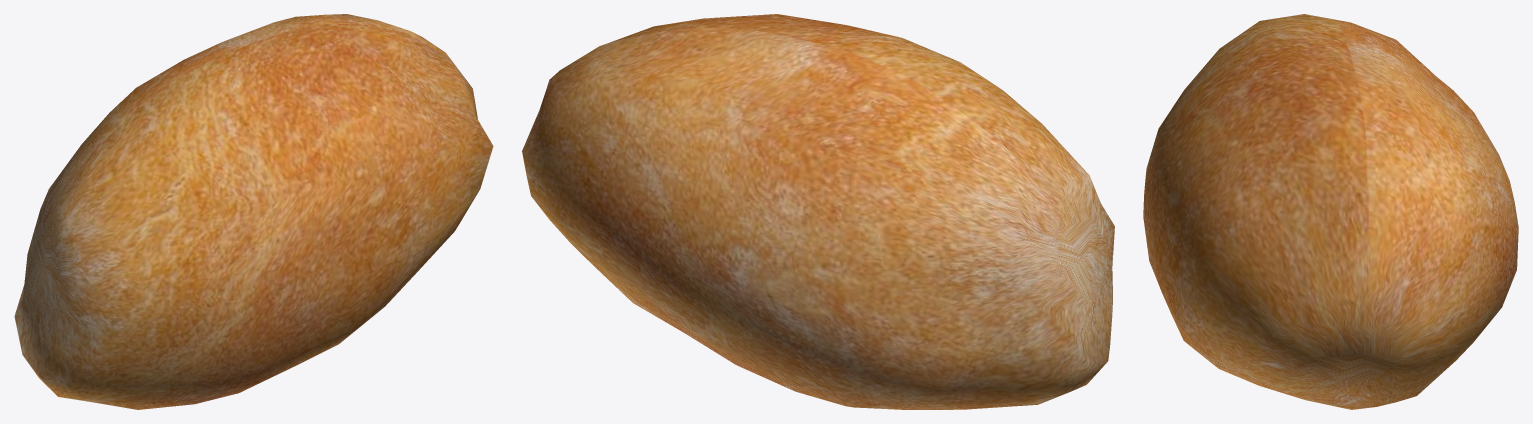
Rendered from luti4.fbx.
3 renders of one model, left to right at view 1: azimuth 30°, elevation 25°; view 2: azimuth 150°, elevation 25°; view 3: azimuth 270°, elevation 25°, orthographic. The views are drawn at different scales.
Visible parts, largest first — view 1: luti4; view 2: luti4; view 3: luti4.
Boxes of the visible parts, x1,y1,x2,y2 form: luti4: (14,14,493,409); luti4: (522,14,1114,409); luti4: (1143,14,1518,409).
Size of the model in its own units: 10.29 by 6.53 by 6.28.
